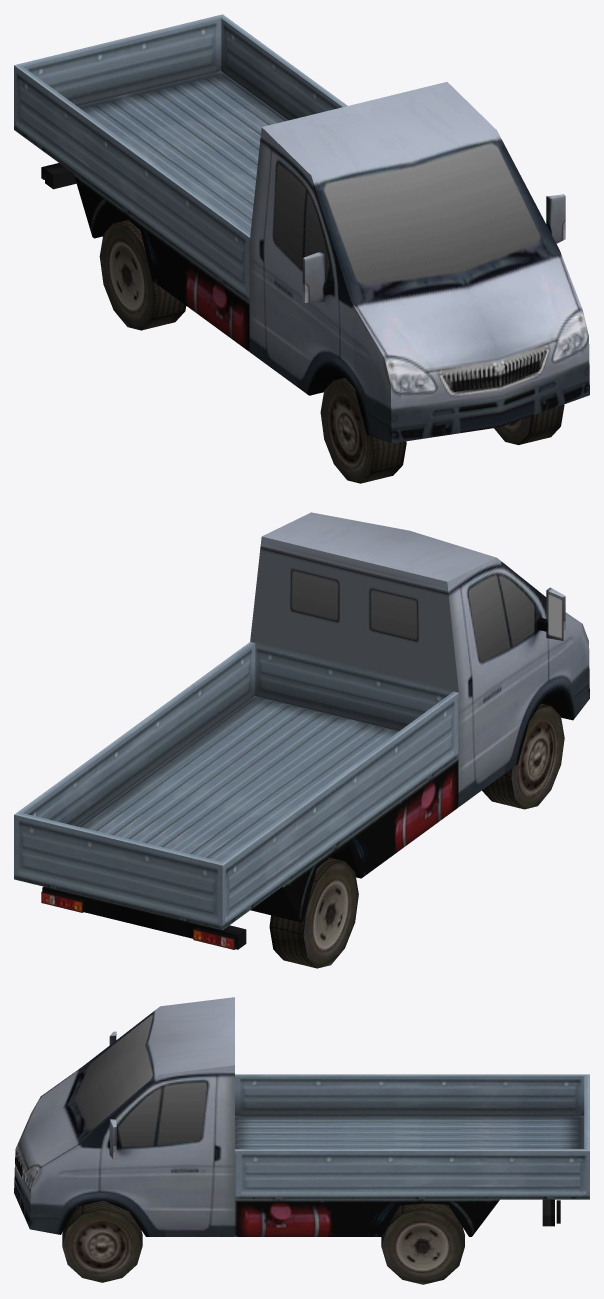
Rendered from gazelle.glb.
3 renders of one model, top to bottom at view 1: azimuth 30°, elevation 25°; view 2: azimuth 150°, elevation 25°; view 3: azimuth 270°, elevation 25°, orthographic. The views are drawn at different scales.
Visible parts, largest first — view 1: _MeshInstance3D_146, _MeshInstance3D_157, _MeshInstance3D_156, _MeshInstance3D_155; view 2: _MeshInstance3D_146, _MeshInstance3D_157, _MeshInstance3D_156; view 3: _MeshInstance3D_146, _MeshInstance3D_158, _MeshInstance3D_155.
Boxes of the visible parts, x1=… form: _MeshInstance3D_146: x1=14, y1=14, x2=589, y2=443; _MeshInstance3D_157: x1=99, y1=219, x2=186, y2=330; _MeshInstance3D_156: x1=320, y1=377, x2=406, y2=483; _MeshInstance3D_155: x1=494, y1=404, x2=564, y2=444; _MeshInstance3D_146: x1=14, y1=512, x2=589, y2=949; _MeshInstance3D_157: x1=269, y1=857, x2=358, y2=968; _MeshInstance3D_156: x1=482, y1=703, x2=564, y2=809; _MeshInstance3D_146: x1=14, y1=997, x2=589, y2=1236; _MeshInstance3D_158: x1=381, y1=1203, x2=464, y2=1284; _MeshInstance3D_155: x1=62, y1=1200, x2=142, y2=1282.
Bounding box in the file's own units: 2.33 × 2.47 × 5.93.
3 materials, 2 textured.
